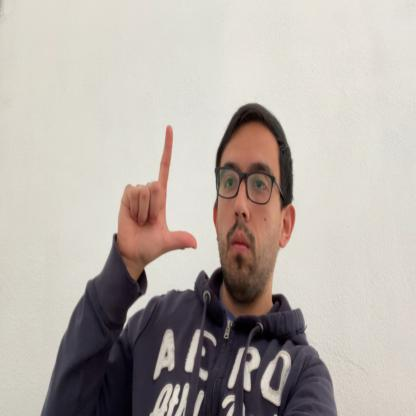L: (119, 124, 197, 266)
